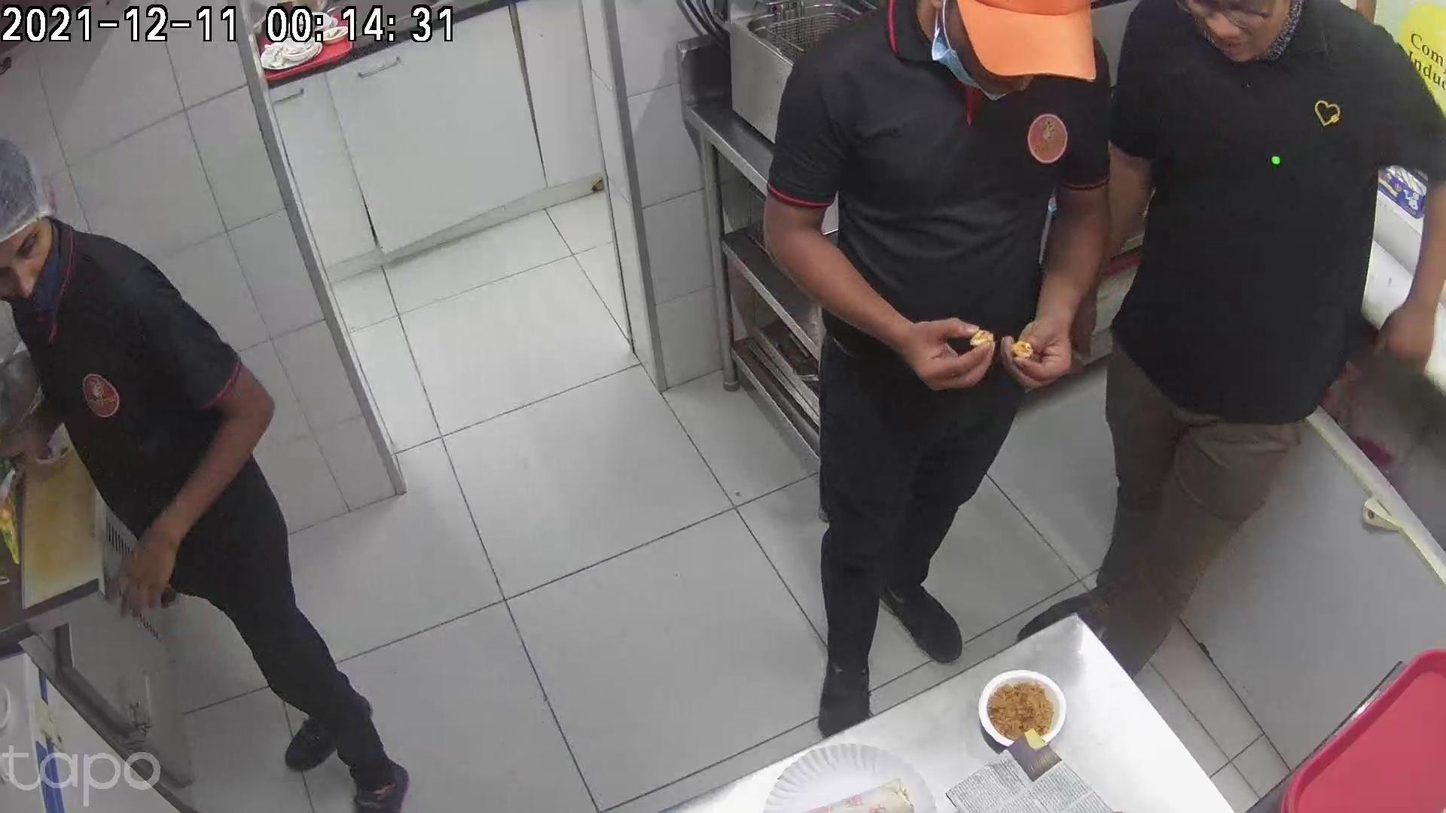no_gloves: (382, 628, 469, 805)
